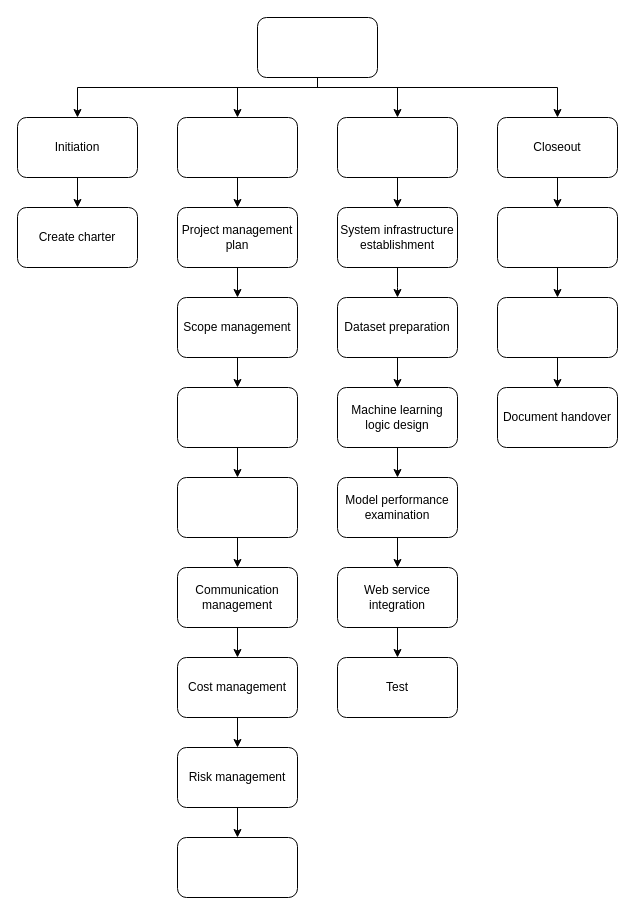
This 635x915 diagram has some shape labels left out. Each missing label, with the centre of its shape:
"Audit product" belongs at point 557,237.
"Deploy product" belongs at point 557,327.
"Development" belongs at point 397,147.
"Human resource management" belongs at point 237,507.
"NMT Project" belongs at point 317,47.
"Planning" belongs at point 237,147.
"Quality management" belongs at point 237,867.
"Time management" belongs at point 237,417.
